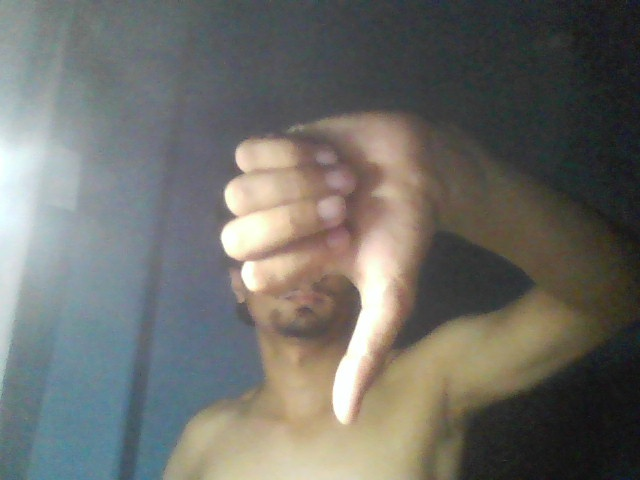ThumbsDown: (219, 96, 431, 427)
